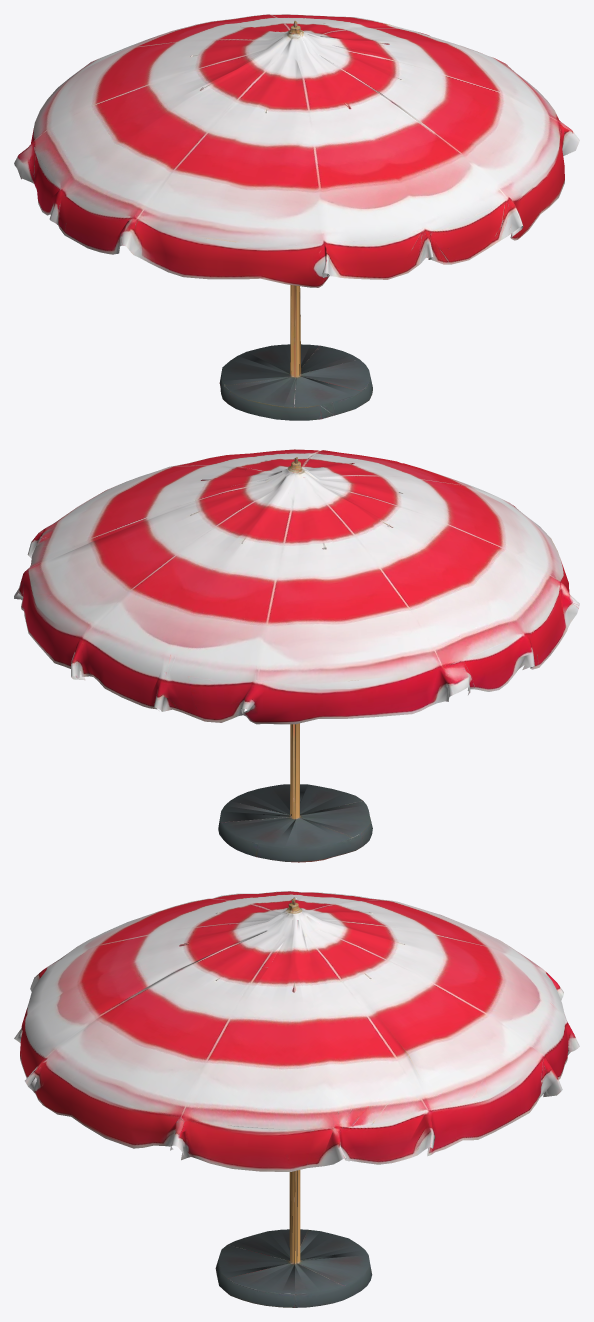
Rendered from umbrella.glb.
3 views of the same model, one above another, from view 1: azimuth 30°, elevation 25°; view 2: azimuth 150°, elevation 25°; view 3: azimuth 270°, elevation 25° (orthographic). The views are drawn at different scales.
Size of the model in its own units: 0.9502 by 0.6938 by 0.9458.
Materials: 1 (1 with a texture image).
